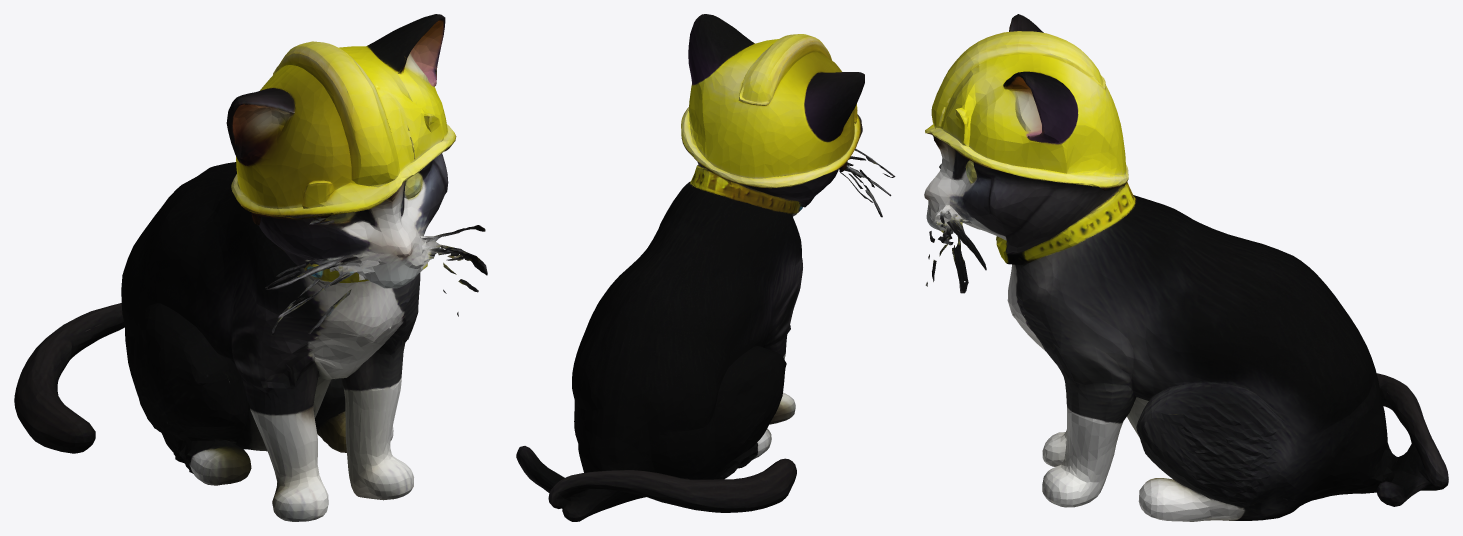
File: cat_trellis.glb
3 views of the same model, side by side, from view 1: azimuth 30°, elevation 25°; view 2: azimuth 150°, elevation 25°; view 3: azimuth 270°, elevation 25° (orthographic). The views are drawn at different scales.
Bounding box in the file's own units: 0.6023 × 0.9441 × 1.
Materials: 1 (1 with a texture image).
